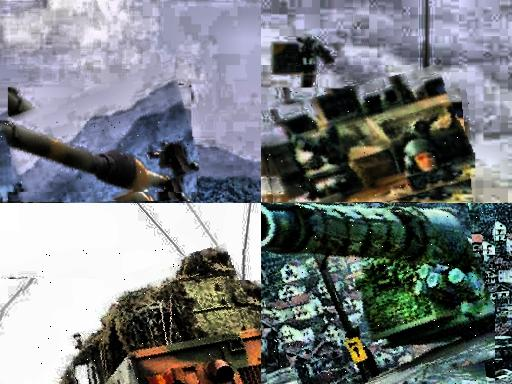tanks: (262, 204, 496, 384), (60, 251, 262, 384), (268, 88, 475, 204), (1, 122, 200, 192), (1, 202, 4, 204)
